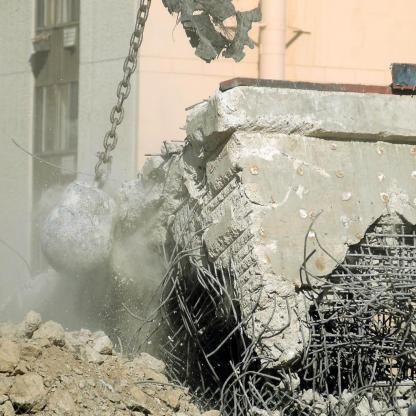rebar: (119, 196, 416, 416)
